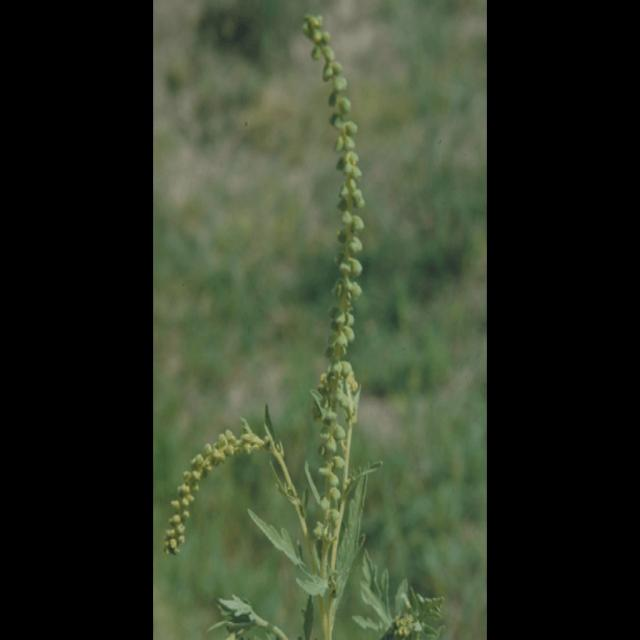ambrosia: (284, 0, 376, 622), (149, 413, 267, 569)
